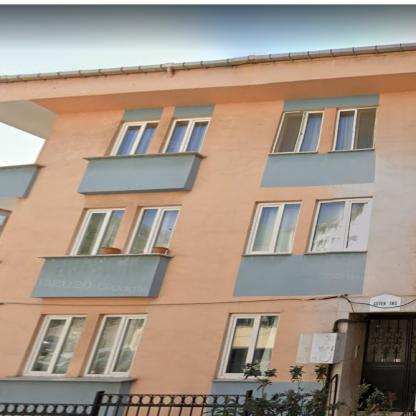door: (362, 318, 413, 410)
window: (25, 317, 85, 375), (87, 317, 146, 375), (223, 316, 280, 376), (310, 200, 370, 251), (248, 203, 301, 253), (127, 207, 180, 253), (270, 111, 324, 153), (74, 210, 124, 255), (333, 105, 377, 150), (162, 119, 210, 153), (113, 122, 158, 155)
